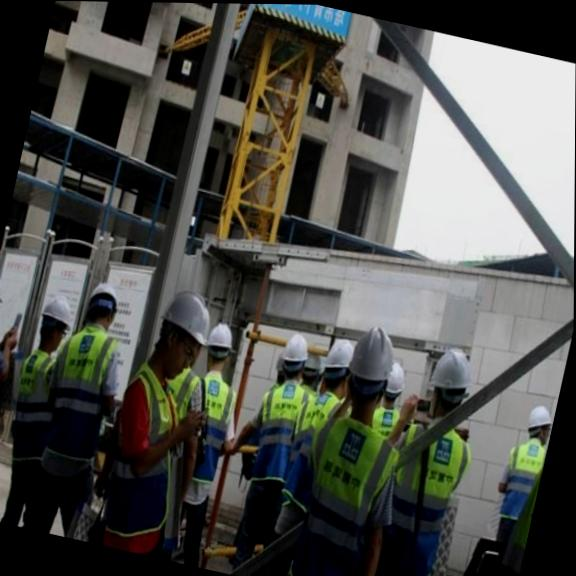safety_vest: (285, 403, 399, 576), (96, 369, 192, 554), (368, 413, 473, 576), (39, 320, 128, 469), (167, 365, 243, 501), (244, 370, 311, 493), (0, 353, 47, 493), (0, 321, 10, 436)
